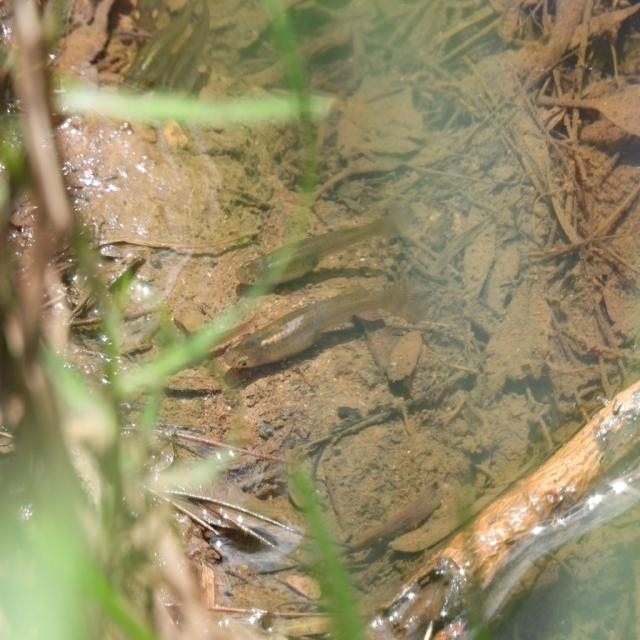Sivrisinek Baligi: (219, 275, 433, 373), (242, 196, 415, 294)
